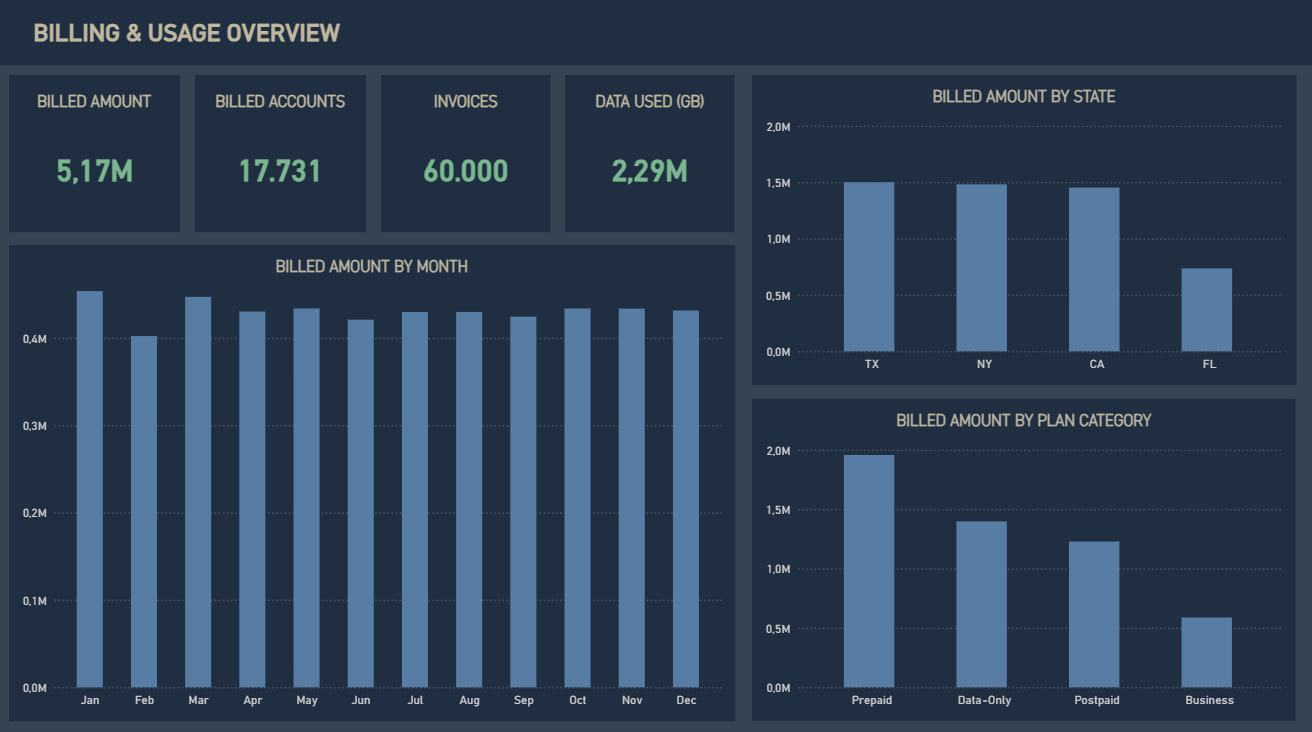

Layout of this report page (visuals, bound fields, positions):
{"tool":"powerbi","page":{"name":"Page 1","canvas":[1600,900],"ordinal":0},"visuals":[{"type":"shape","box":[0,0,1600,83.3],"z":0},{"type":"cardVisual","title":"BILLED AMOUNT","fields":{"Data":["_Measures.Total Billed Amount"]},"box":[12.2,94.8,207.5,191.2],"z":1000},{"type":"cardVisual","title":"INVOICES","fields":{"Data":["_Measures.Total Invoices"]},"box":[464.1,95,206.2,191.2],"z":2000},{"type":"cardVisual","title":"BILLED ACCOUNTS","fields":{"Data":["_Measures.Total Billed Accounts"]},"box":[238.1,95,207.5,191.2],"z":3000},{"type":"cardVisual","title":"DATA USED (GB)","fields":{"Data":["_Measures.Total Data Used"]},"box":[688.8,95,206.2,191.2],"z":4000},{"type":"columnChart","title":"BILLED AMOUNT BY MONTH","fields":{"Category":["DimDate.Month"],"Y":["_Measures.Total Billed Amount"]},"box":[12.5,301.2,882.5,578.8],"z":5000},{"type":"columnChart","title":"BILLED AMOUNT BY STATE","fields":{"Category":["DimCustomers.state_code"],"Y":["_Measures.Total Billed Amount"]},"box":[915,95,661.6,376.9],"z":6000},{"type":"columnChart","title":"BILLED AMOUNT BY PLAN CATEGORY","fields":{"Category":["DimPlans.plan_category"],"Y":["_Measures.Total Billed Amount"]},"box":[915.5,488.8,661.4,391.5],"z":7000},{"type":"textbox","box":[0,26.2,556.2,57.5],"z":8000}]}

Visuals, with their boxes in screenshot pixels (x1, y1, x2, y2), scaled from the page's 1600x900 canvas onto the 1312x732 screenshot:
shape: 0 0 1311 68
"BILLED AMOUNT" cardVisual: 10 77 180 233
"INVOICES" cardVisual: 381 77 550 233
"BILLED ACCOUNTS" cardVisual: 195 77 365 233
"DATA USED (GB)" cardVisual: 565 77 734 233
"BILLED AMOUNT BY MONTH" columnChart: 10 245 734 716
"BILLED AMOUNT BY STATE" columnChart: 750 77 1293 384
"BILLED AMOUNT BY PLAN CATEGORY" columnChart: 751 398 1293 716
textbox: 0 21 456 68
